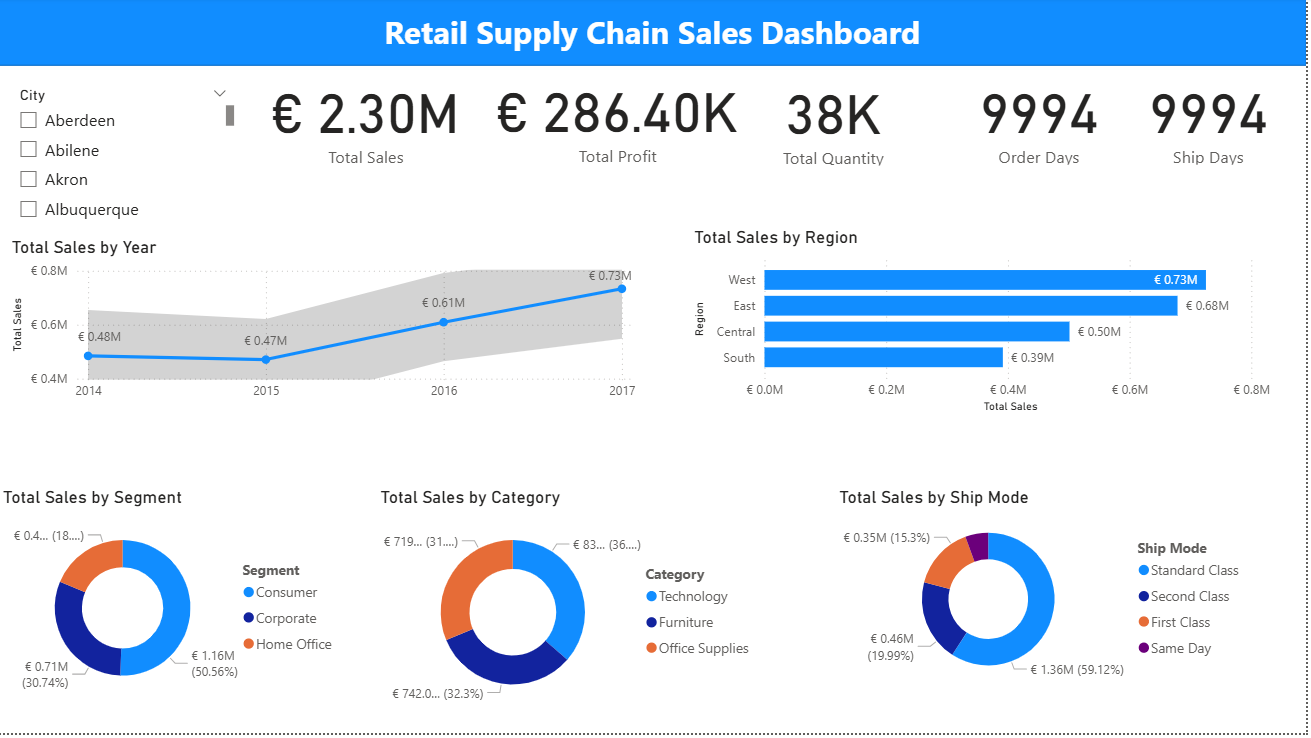

Layout of this report page (visuals, bound fields, positions):
{"tool":"powerbi","page":{"name":"Sales dashboard","canvas":[1280,720],"ordinal":0},"visuals":[{"type":"card","fields":{"Values":["Retails Order Full Dataset.Total Sales"]},"box":[245.8,63.6,228.7,108.8],"z":0},{"type":"card","fields":{"Values":["Retails Order Full Dataset.Total Profit"]},"box":[474.5,61.1,264.1,111.3],"z":1000},{"type":"card","fields":{"Values":["Retails Order Full Dataset.Total Quantity"]},"box":[738.6,67.3,157.7,102.7],"z":2000},{"type":"card","fields":{"Values":["CountNonNull(Retails Order Full Dataset.Order Date)"]},"box":[922,67.3,193.2,101.5],"z":3000},{"type":"card","fields":{"Values":["CountNonNull(Retails Order Full Dataset.Ship Date)"]},"box":[1096.9,67.3,174.9,101.5],"z":4000},{"type":"clusteredBarChart","title":"Total  Sales by Region","fields":{"Category":["Retails Order Full Dataset.Region"],"Y":["Retails Order Full Dataset.Total Sales"]},"box":[676.2,225,579.6,187.1],"z":5000},{"type":"lineChart","title":"Total Sales by Year","fields":{"Y":["Retails Order Full Dataset.Total Sales"],"Category":["Retails Order Full Dataset.Order Date.Variation.Date Hierarchy.Year"]},"box":[8.6,234.8,620,168.8],"z":7000},{"type":"donutChart","title":" Total  Sales by Ship Mode","fields":{"Category":["Retails Order Full Dataset.Ship Mode"],"Y":["Retails Order Full Dataset.Total Sales"]},"box":[818.1,479.4,409.6,200.5],"z":8000},{"type":"donutChart","fields":{"Category":["Retails Order Full Dataset.Segment"],"Y":["Retails Order Full Dataset.Total Sales"]},"box":[0,479.4,341.2,217.7],"z":9000},{"type":"donutChart","title":" Total Sales by Category","fields":{"Category":["Retails Order Full Dataset.Category"],"Y":["Retails Order Full Dataset.Total Sales"]},"box":[369.3,479.4,379.1,226.2],"z":10000},{"type":"actionButton","box":[0,0,100,40],"z":12000},{"type":"slicer","fields":{"Values":["Retails Order Full Dataset.City"]},"box":[8.6,81.9,227.4,144.3],"z":15000},{"type":"shape","box":[0,0,1280.3,67.3],"z":16000}]}

Visuals, with their boxes in screenshot pixels (x1, y1, x2, y2), scaled from the page's 1280x720 canvas onto the 1311x738 screenshot:
card - Retails Order Full Dataset.Total Sales: locate(252, 65, 486, 177)
card - Retails Order Full Dataset.Total Profit: locate(486, 63, 756, 177)
card - Retails Order Full Dataset.Total Quantity: locate(756, 69, 918, 174)
card - CountNonNull(Retails Order Full Dataset.Order Date): locate(944, 69, 1142, 173)
card - CountNonNull(Retails Order Full Dataset.Ship Date): locate(1123, 69, 1303, 173)
"Total  Sales by Region" clusteredBarChart: locate(693, 231, 1286, 422)
"Total Sales by Year" lineChart: locate(9, 241, 644, 414)
" Total  Sales by Ship Mode" donutChart: locate(838, 491, 1257, 697)
donutChart - Retails Order Full Dataset.Segment x Retails Order Full Dataset.Total Sales: locate(0, 491, 349, 715)
" Total Sales by Category" donutChart: locate(378, 491, 767, 723)
actionButton: locate(0, 0, 102, 41)
slicer - Retails Order Full Dataset.City: locate(9, 84, 242, 232)
shape: locate(0, 0, 1310, 69)
